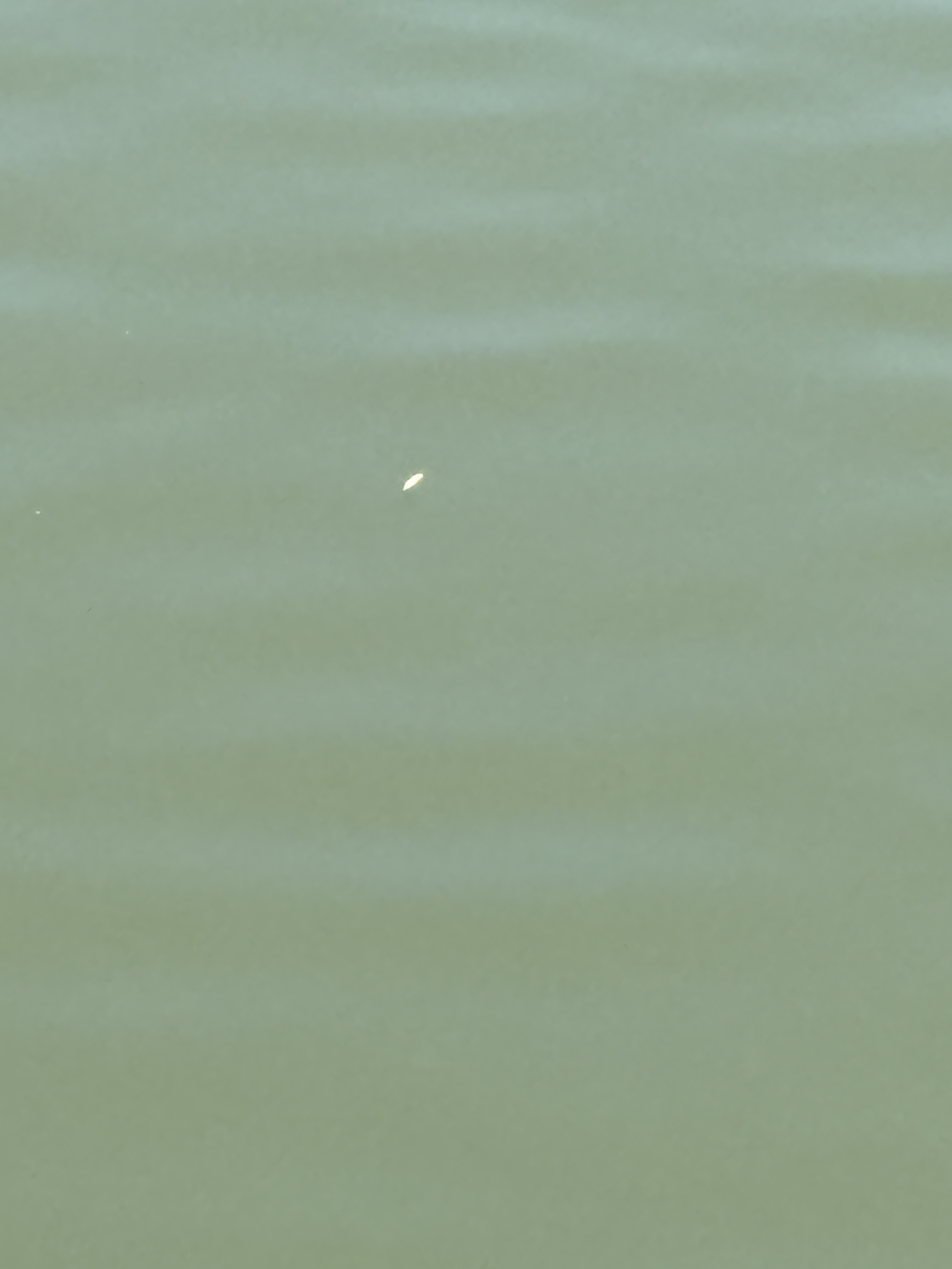Plastic wastes: (352, 703, 372, 733)
